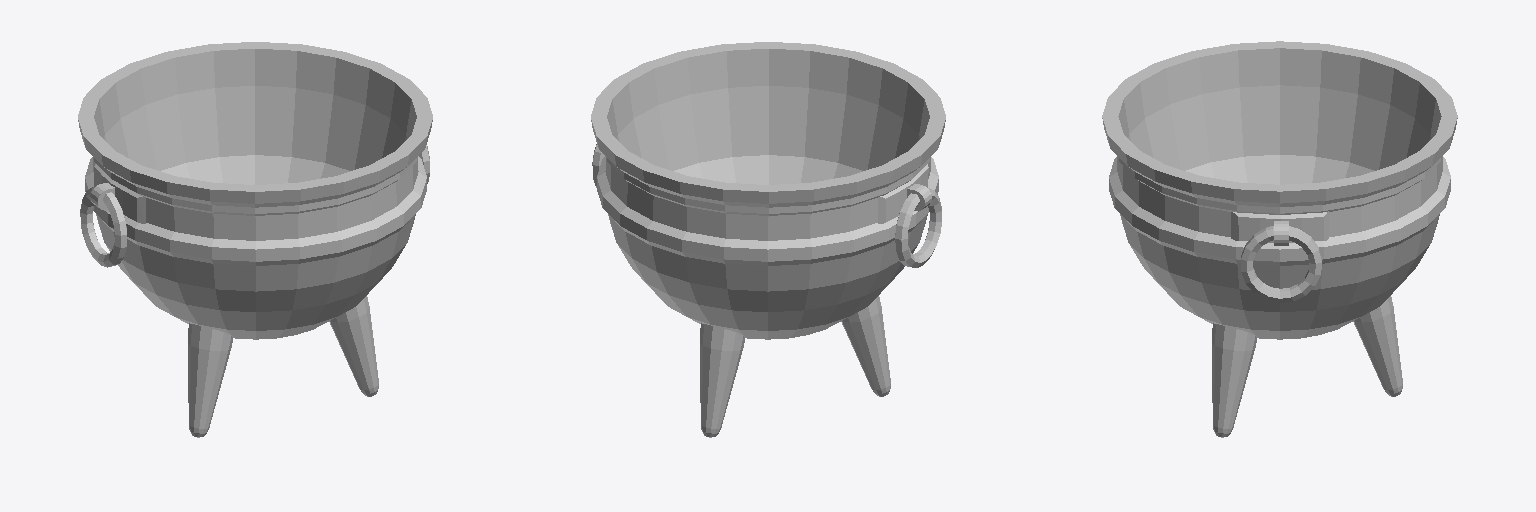
Rendered from Cauldron.obj.
3 views of the same model, side by side, from view 1: azimuth 30°, elevation 25°; view 2: azimuth 150°, elevation 25°; view 3: azimuth 270°, elevation 25° (orthographic).
Visible parts, largest first — view 1: Cauldron_Sphere; view 2: Cauldron_Sphere; view 3: Cauldron_Sphere.
Part boxes in pixels (x1,y1,x2,y2): Cauldron_Sphere: (78,42,432,437); Cauldron_Sphere: (591,42,945,437); Cauldron_Sphere: (1102,41,1457,437).
Size of the model in its own units: 0.9891 by 0.8155 by 0.944.